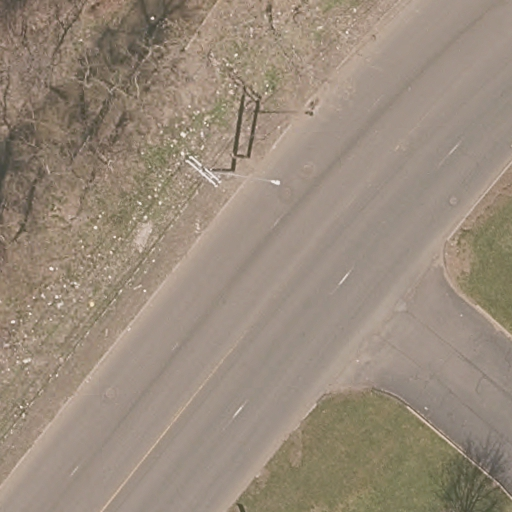DT: (182, 153, 222, 187)
